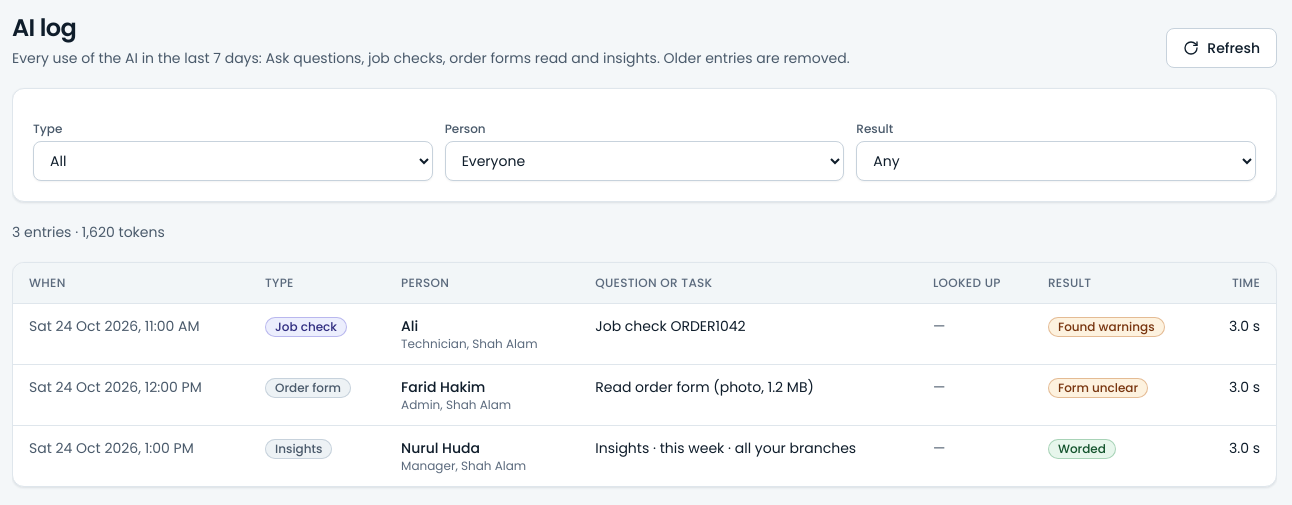
Test case: The Admin AI log (0008 PRD Q13, P8; 0009 plan P6) › also lists job checks, order forms and insights, filtered by Type (0009)
Expected: the text "Job check" is shown, x1=265 y1=317 x2=347 y2=337
Expected: the text "Found warnings" is shown, x1=1048 y1=317 x2=1165 y2=337
Select "Order form" in the dropdown labelled "Type" at [233, 161], box x1=33 y1=141 x2=433 y2=181
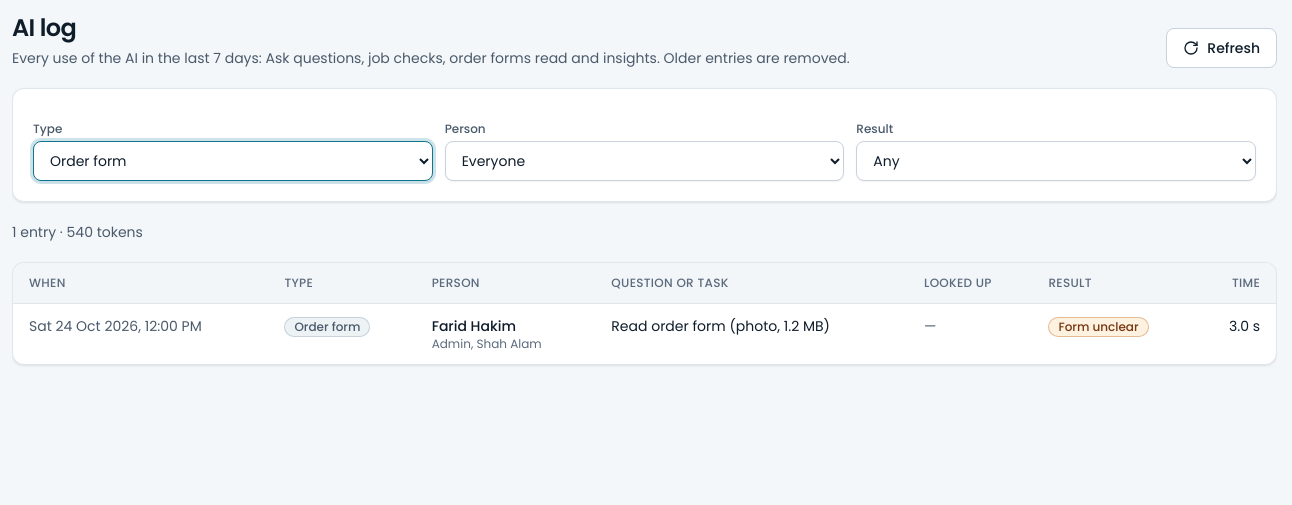
Result: the text "1 entry · 540 tokens" is shown at x1=12 y1=222 x2=143 y2=242
Result: the text "Job check ORDER1042" is gone
